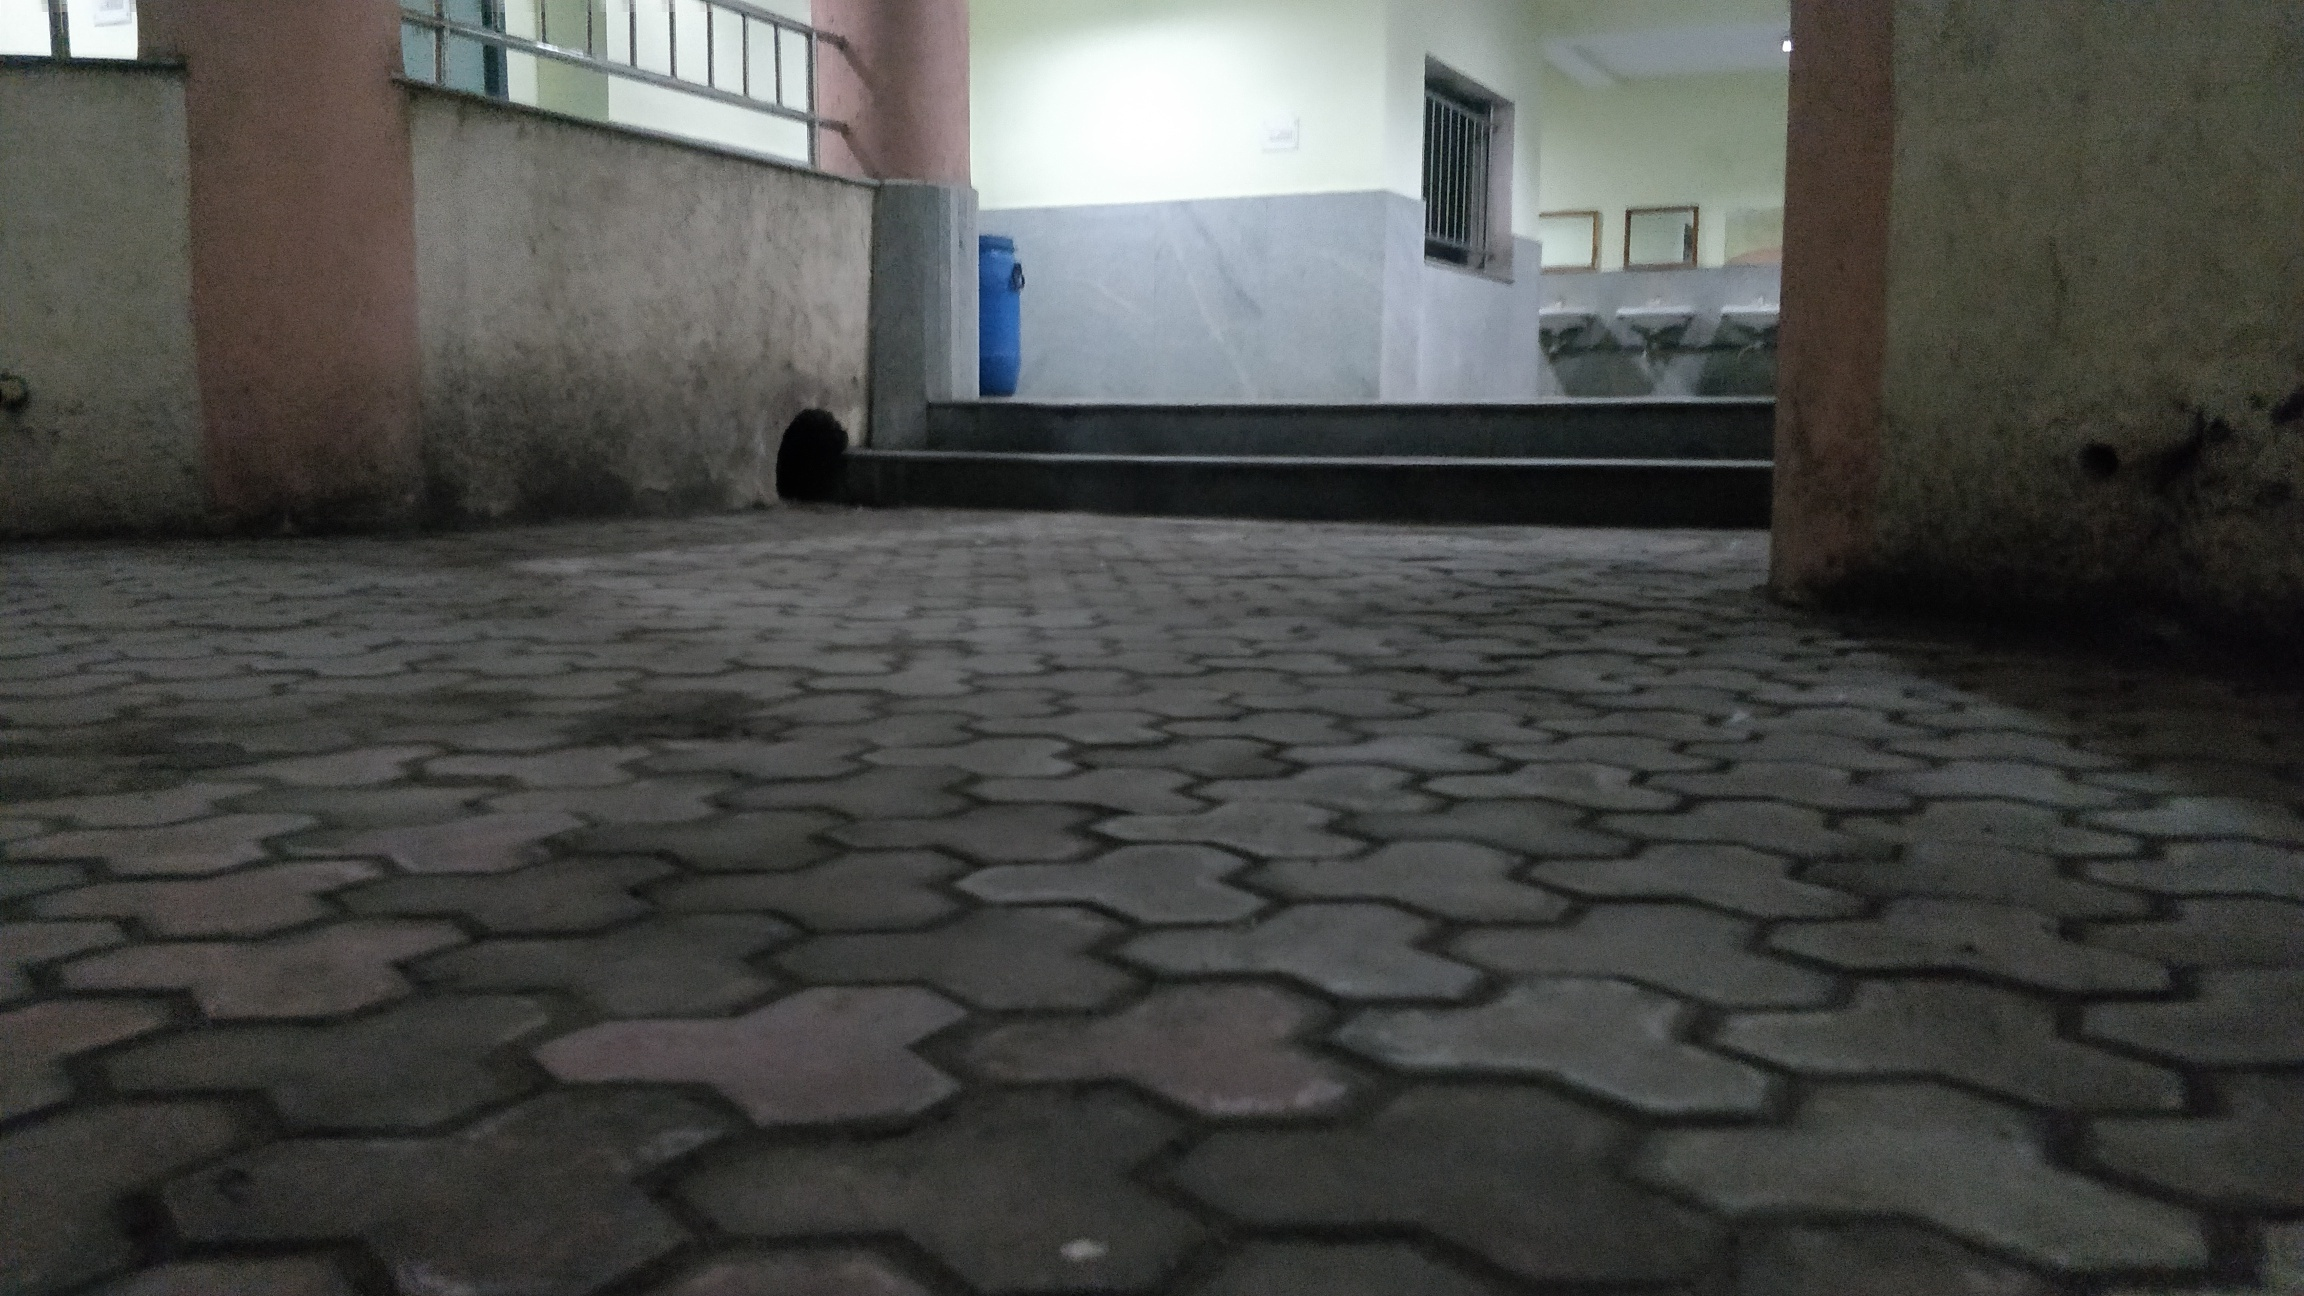stairs_up: (836, 392, 1771, 516)
